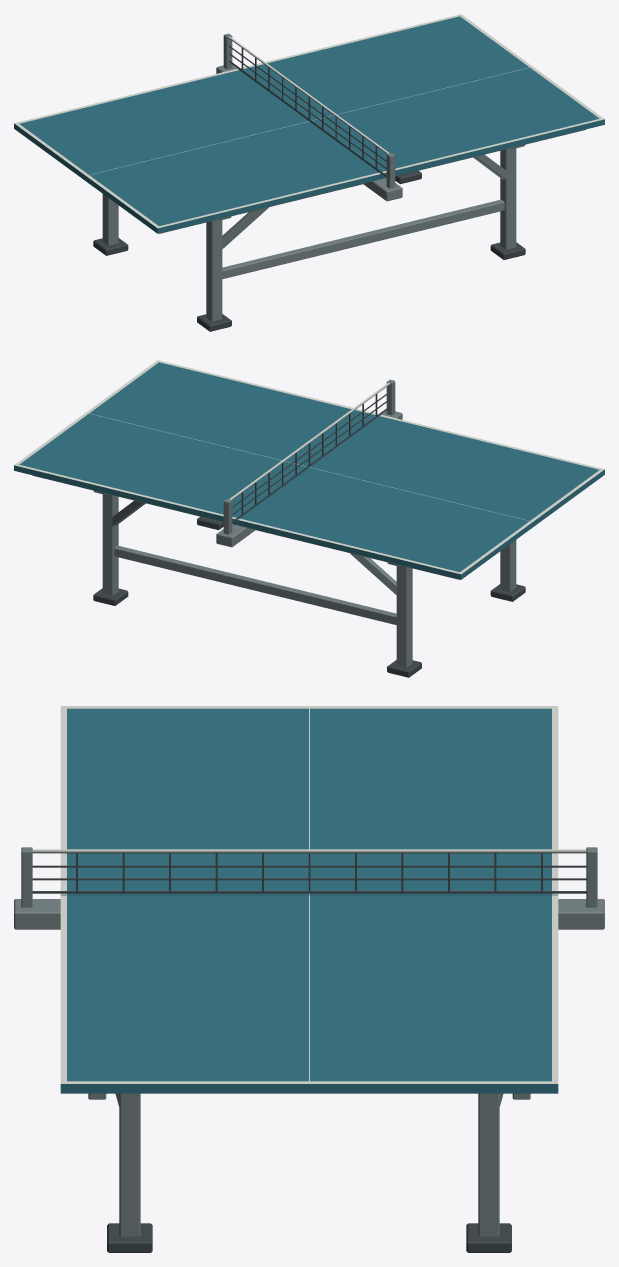
The picture shows the model from 3 angles, top to bottom: view 1: azimuth 30°, elevation 25°; view 2: azimuth 150°, elevation 25°; view 3: azimuth 270°, elevation 25°; orthographic projection. The views are drawn at different scales.
Parts seen in each view (by area): view 1: Playing half left, Playing half right, Lower longitudinal tie, Fixed upright leg, Continuous real-open net grid, Fixed upright leg.002, Fixed upright leg.001, Net top tape, Knee brace, Net side mounting arm, Long side frame; view 2: Playing half left, Playing half right, Lower longitudinal tie.001, Fixed upright leg.001, Continuous real-open net grid, Fixed upright leg.003, Fixed upright leg, Net top tape, Knee brace.001, Net side mounting arm.001, Long side frame.001; view 3: Playing half right, Playing half left, Continuous real-open net grid, Fixed upright leg.002, Fixed upright leg.003, Net top tape, Net side mounting arm, Net side mounting arm.001, Grounded foot pad.002, Grounded foot pad.003, Fixed net support post, Fixed net support post.001.
Boxes of the visible parts, x1,y1,x2,y2 form: Playing half left: [14, 69, 380, 233]; Playing half right: [238, 14, 604, 178]; Lower longitudinal tie: [222, 199, 504, 278]; Fixed upright leg: [206, 219, 222, 321]; Continuous real-open net grid: [229, 38, 386, 176]; Fixed upright leg.002: [500, 148, 516, 249]; Fixed upright leg.001: [102, 194, 118, 245]; Net top tape: [228, 36, 389, 153]; Knee brace: [222, 207, 268, 249]; Net side mounting arm: [363, 178, 402, 201]; Long side frame: [159, 129, 585, 233]; Playing half left: [238, 415, 604, 579]; Playing half right: [14, 360, 380, 524]; Lower longitudinal tie.001: [114, 545, 396, 624]; Fixed upright leg.001: [396, 565, 412, 667]; Continuous real-open net grid: [232, 384, 389, 522]; Fixed upright leg.003: [102, 494, 118, 595]; Fixed upright leg: [500, 540, 516, 591]; Net top tape: [229, 382, 390, 499]; Knee brace.001: [350, 553, 396, 595]; Net side mounting arm.001: [216, 524, 255, 547]; Long side frame.001: [33, 475, 459, 579]; Playing half right: [60, 895, 558, 1093]; Playing half left: [60, 706, 558, 895]; Continuous real-open net grid: [32, 852, 586, 893]; Fixed upright leg.002: [119, 1093, 140, 1236]; Fixed upright leg.003: [478, 1093, 499, 1236]; Net top tape: [32, 849, 586, 852]; Net side mounting arm: [14, 899, 60, 929]; Net side mounting arm.001: [558, 899, 604, 929]; Grounded foot pad.002: [107, 1223, 152, 1252]; Grounded foot pad.003: [466, 1223, 511, 1252]; Fixed net support post: [21, 847, 32, 907]; Fixed net support post.001: [586, 847, 597, 907].
Bounding box in the file's own units: 2.74 × 0.915 × 1.81.
